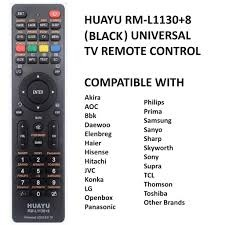remote control: (13, 7, 65, 223)
